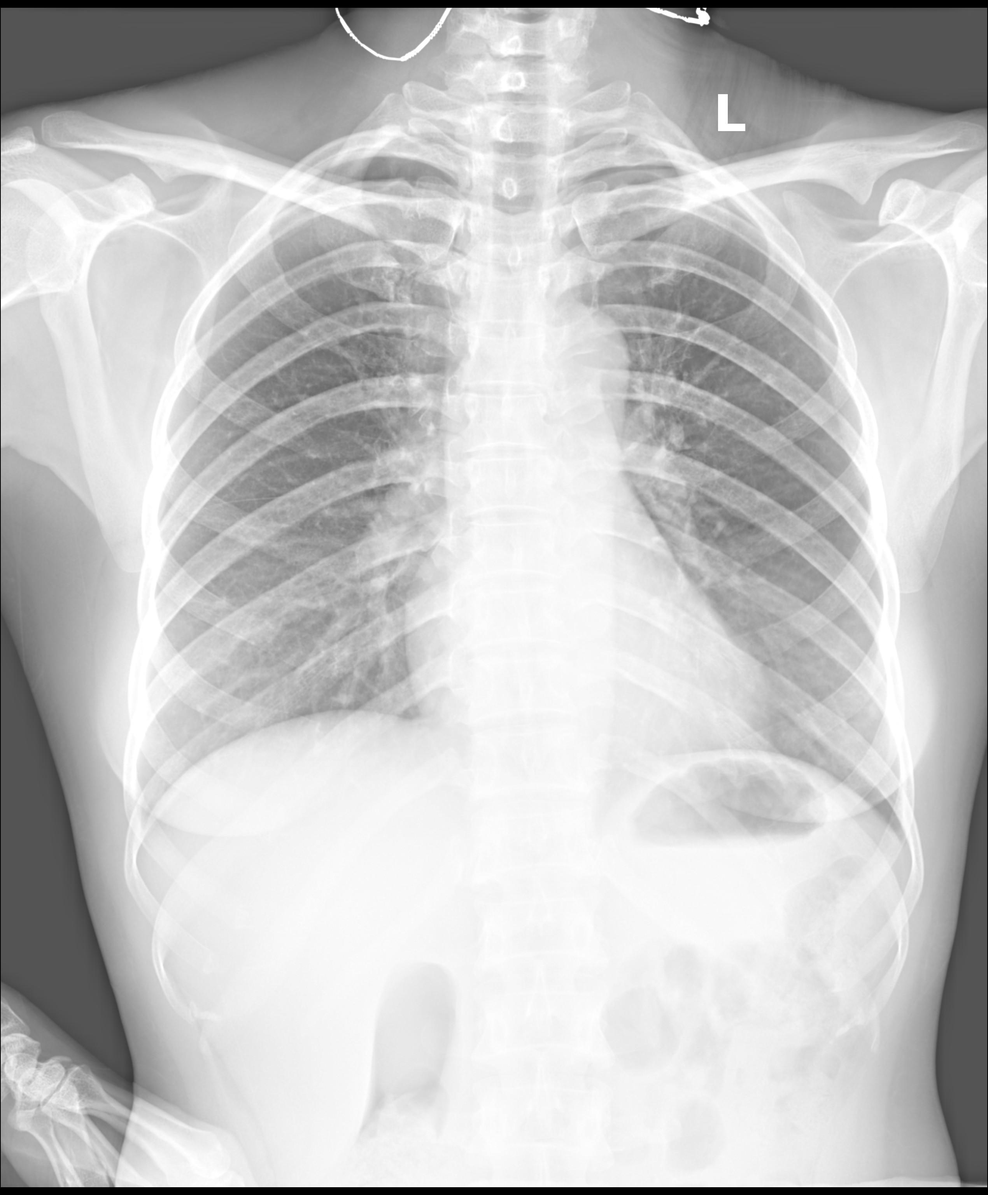Aortic enlargement: (516, 300, 634, 426)
